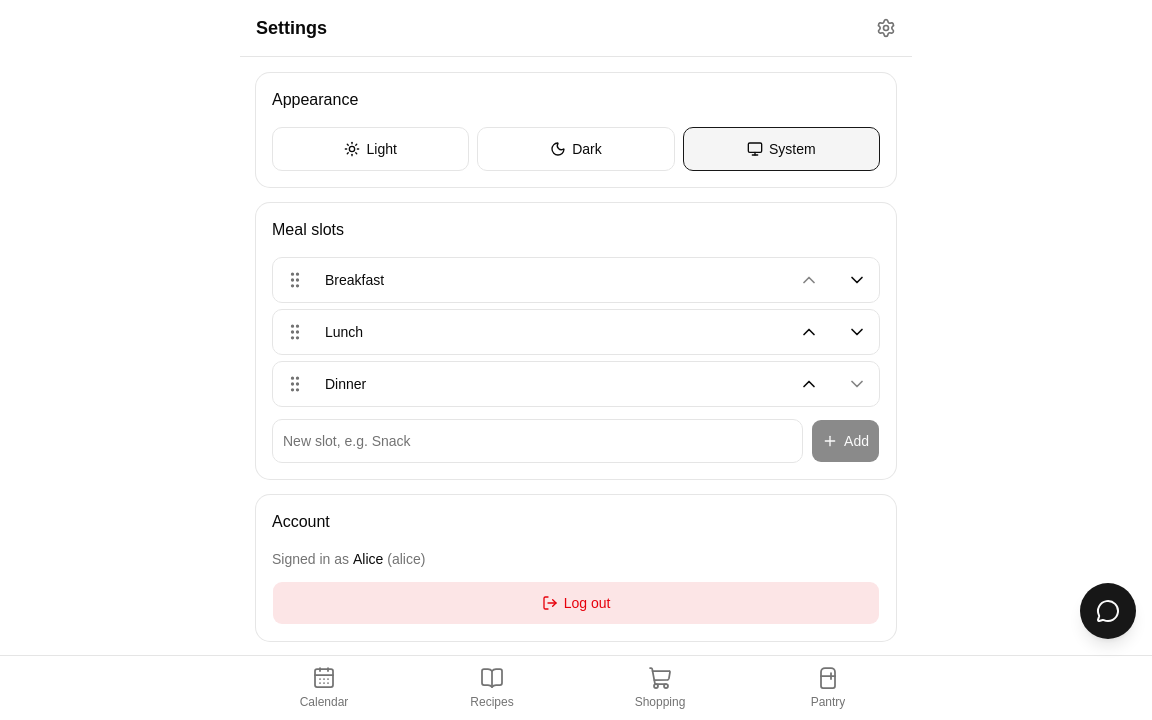
Test: meal slot settings › offers to deactivate a slot that has planned meals
Click the button with aria-label "Edit Lunch": point(344, 332) [321, 310, 783, 354]
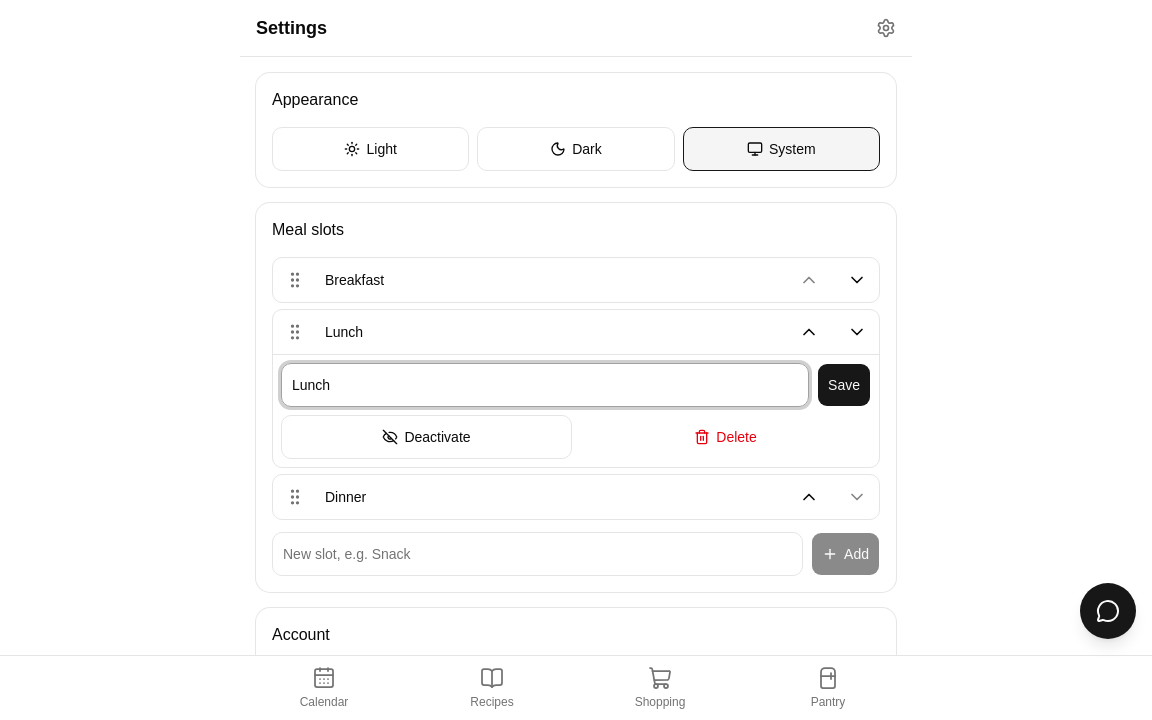
Click the button "Delete": point(726, 437) [580, 415, 871, 459]
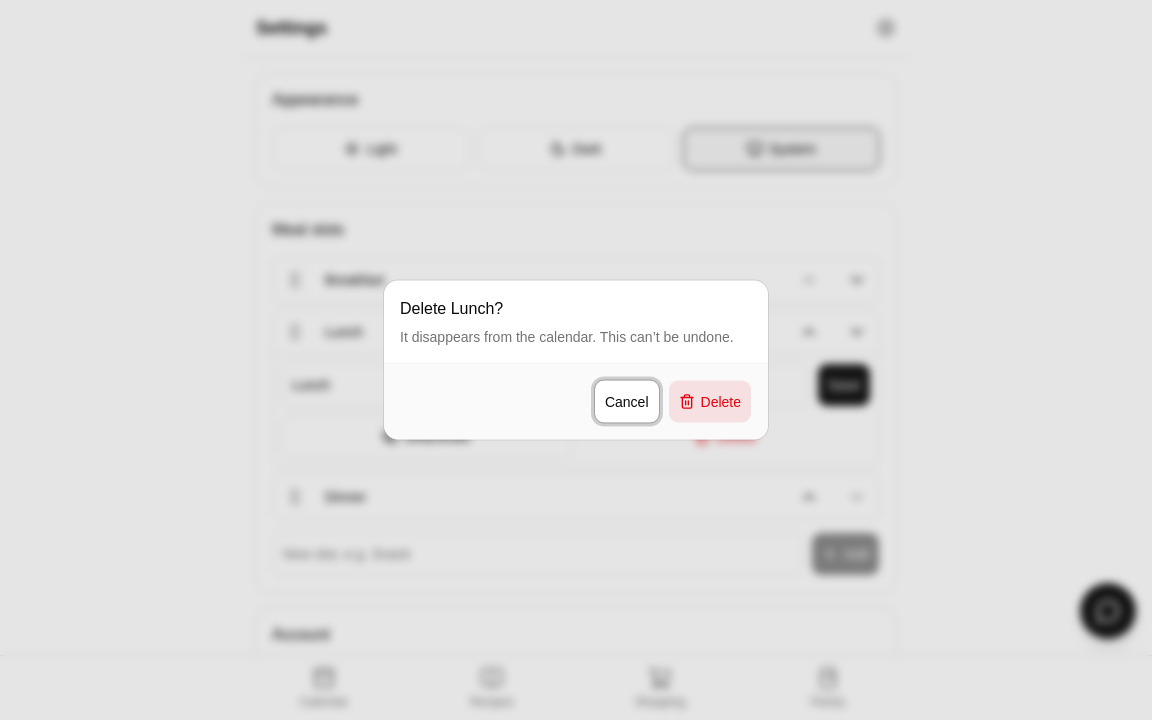
Click the button "Delete": point(710, 402) [668, 380, 752, 424]
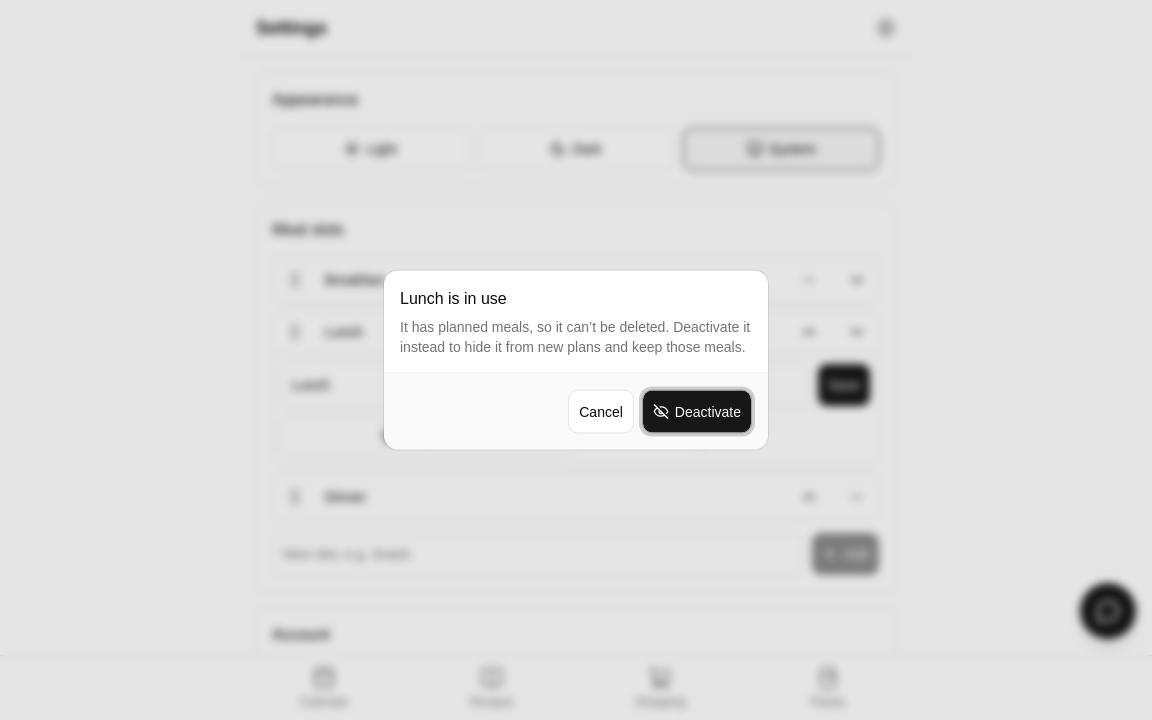
expect the text "Deactivate it instead" is shown: met, box [400, 318, 750, 354]
Click the button "Deactivate": point(697, 412) [642, 390, 752, 434]
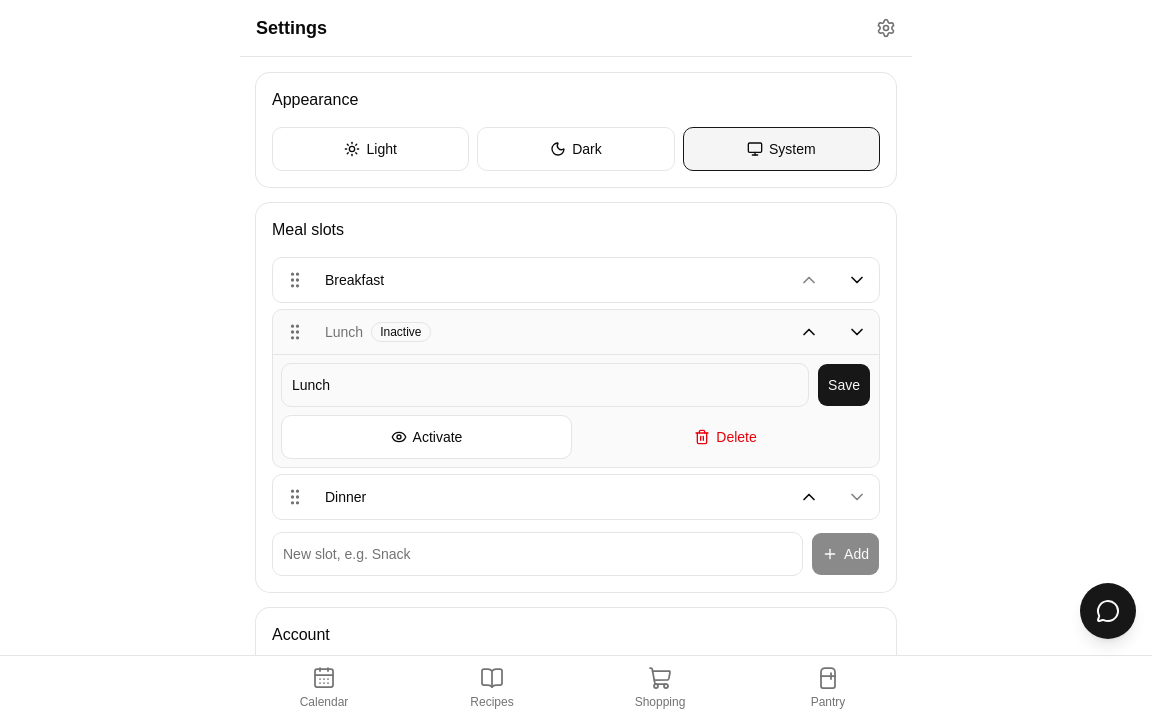
expect the dialog is gone: met
